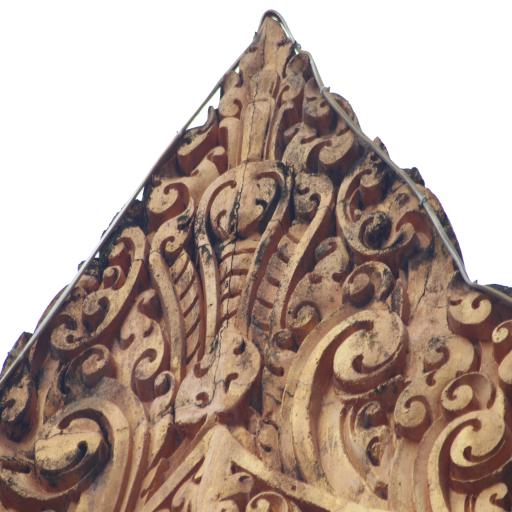lua: (298, 261, 512, 511), (0, 232, 171, 512), (346, 135, 420, 254), (287, 100, 360, 214), (148, 114, 222, 216)
